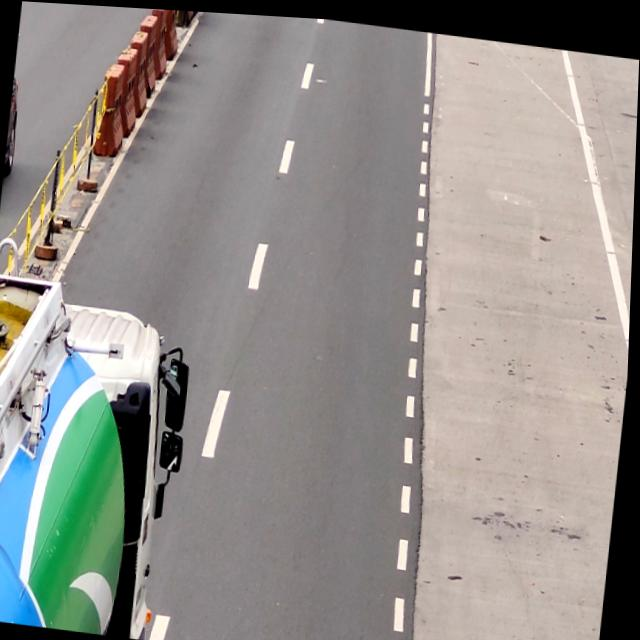Truck: (0, 292, 193, 640)
